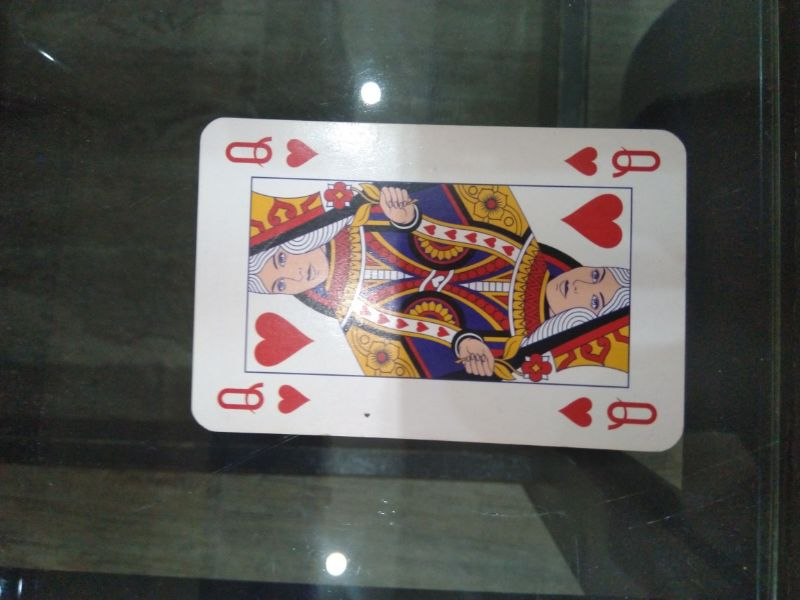Qh: (552, 389, 667, 437), (559, 142, 664, 184), (220, 132, 322, 175), (210, 379, 312, 419)
